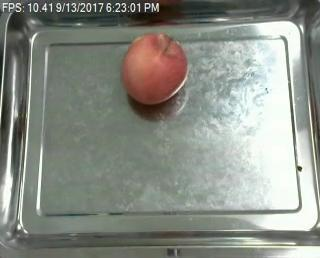apple: (119, 32, 188, 105)
